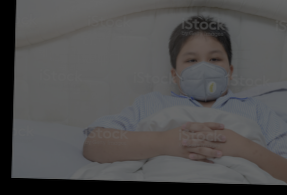with_mask: (176, 44, 230, 102)
